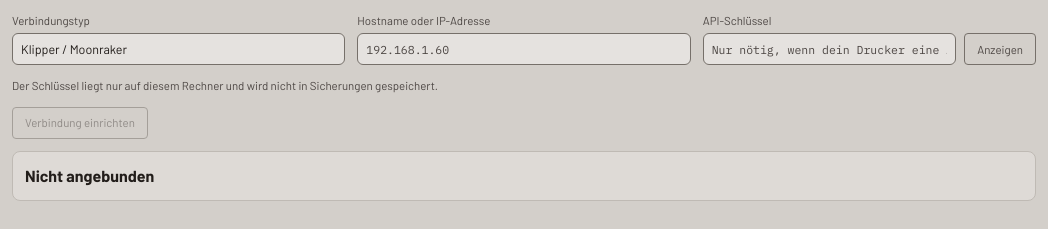
it: PrinterConnectionSection › explains the error unreachable
The width and height of the screenshot is (1048, 229).
In the field labelled "Hostname oder IP-Adresse": (524, 49) [357,33,691,65], type "10.0.0.9"
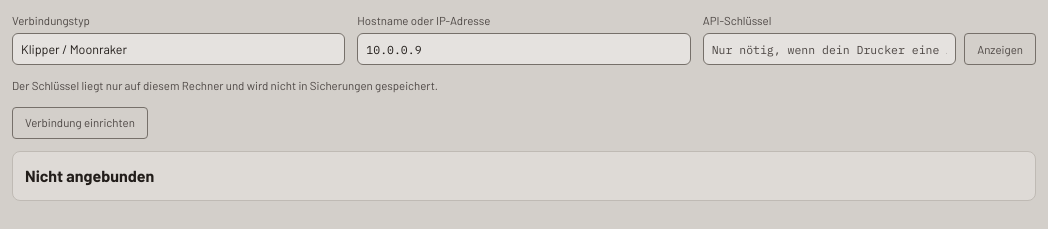
Click the button "Verbindung einrichten": (80, 122) [12,106,148,138]
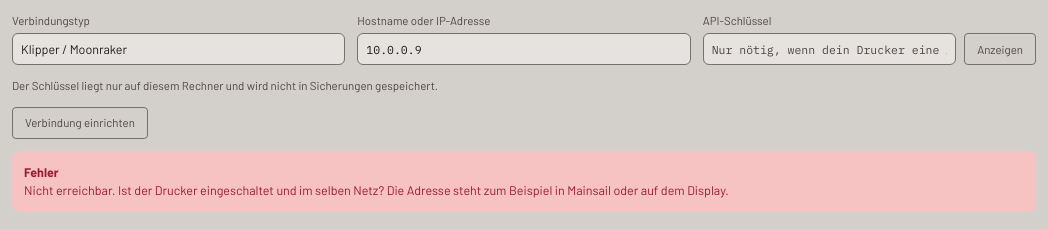
Expected: the text "Nicht erreichbar" is shown, [24,182,729,198]
